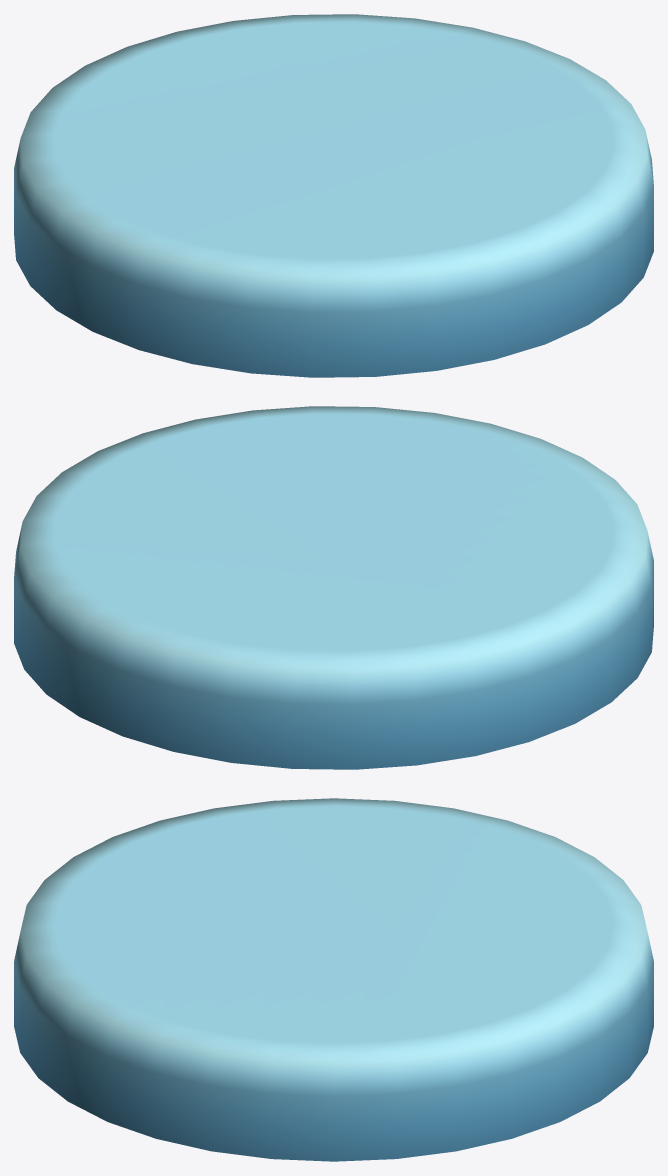
Rendered from Forest_Skipp.fbx.
The picture shows the model from 3 angles, top to bottom: view 1: azimuth 30°, elevation 25°; view 2: azimuth 150°, elevation 25°; view 3: azimuth 270°, elevation 25°; orthographic projection.
Visible parts, largest first — view 1: Circle.037; view 2: Circle.037; view 3: Circle.037.
Boxes of the visible parts, box(x1,y1,x2,y2) form: Circle.037: box(14, 14, 653, 377); Circle.037: box(14, 406, 653, 769); Circle.037: box(14, 798, 653, 1161).
Size of the model in its own units: 181 by 31.77 by 181.
